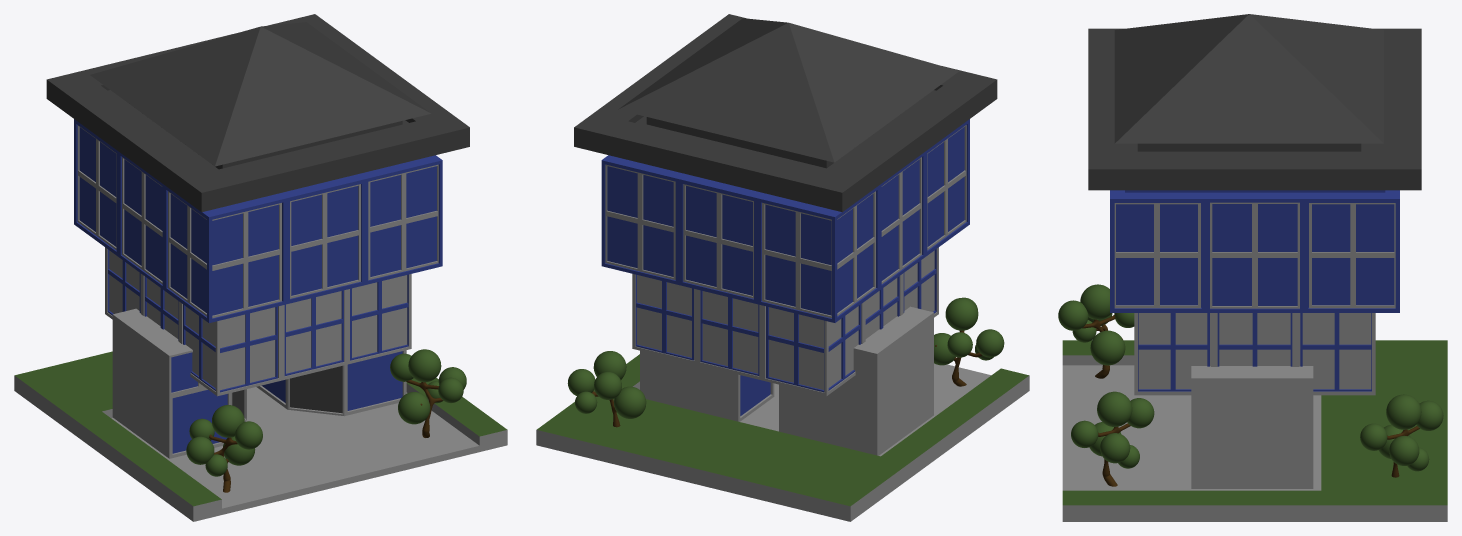
File: workshop.glb
The picture shows the model from 3 angles, left to right: view 1: azimuth 30°, elevation 25°; view 2: azimuth 150°, elevation 25°; view 3: azimuth 270°, elevation 25°; orthographic projection. The views are drawn at different scales.
Visible parts, largest first — view 1: Plane.011; view 2: Plane.011; view 3: Plane.011.
Boxes of the visible parts, box(x1,y1,x2,y2) form: Plane.011: box(14, 14, 507, 521); Plane.011: box(536, 14, 1029, 521); Plane.011: box(1058, 14, 1447, 521).
Bounding box in the file's own units: 1 × 1.2 × 0.9987.
